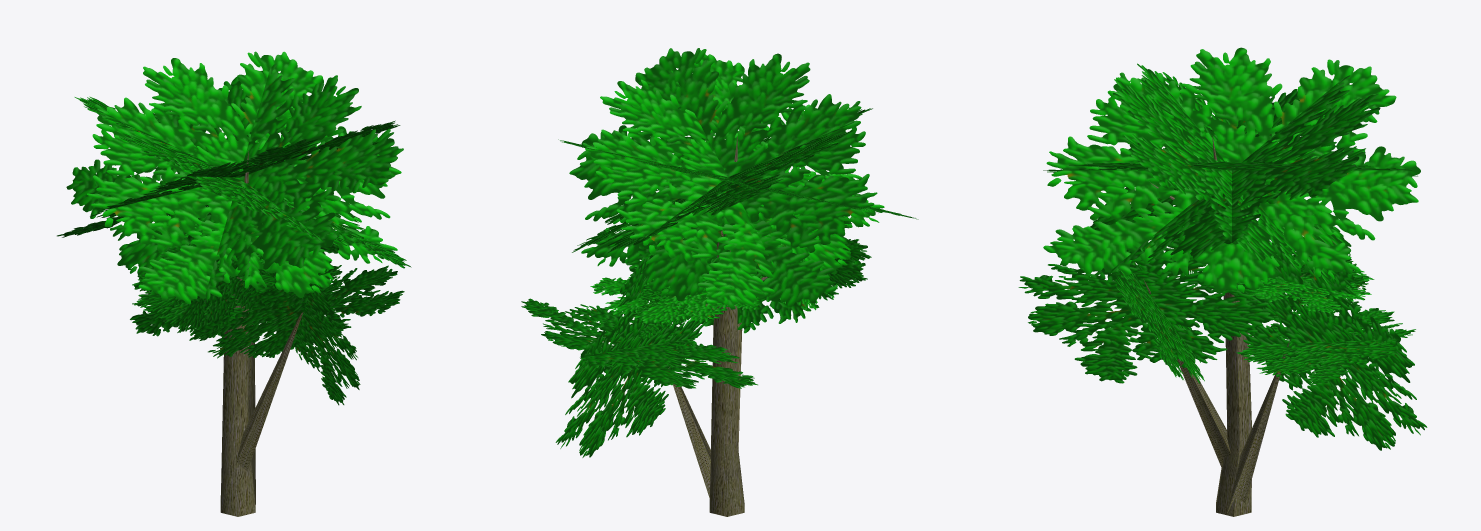
The model's file is tree06.obj.
3 views of the same model, side by side, from view 1: azimuth 30°, elevation 25°; view 2: azimuth 150°, elevation 25°; view 3: azimuth 270°, elevation 25° (orthographic). The views are drawn at different scales.
Visible parts, largest first — view 1: Duplicate06, Duplicate07, Duplicate12, Duplicate08, Cylinder04, Duplicate13, Box01, Duplicate02, Duplicate03; view 2: Box01, Duplicate07, Duplicate03, Cylinder04, Duplicate08, Duplicate11, Duplicate12, Duplicate02, Duplicate13, Duplicate06, Duplicate10; view 3: Duplicate08, Duplicate03, Duplicate12, Duplicate06, Box01, Cylinder04, Duplicate02, Duplicate11, Duplicate07.
Boxes of the visible parts, <box> form: Duplicate06: <box>87,51,401,304</box>; Duplicate07: <box>66,64,403,299</box>; Duplicate12: <box>189,247,404,405</box>; Duplicate08: <box>74,96,411,268</box>; Cylinder04: <box>220,151,255,516</box>; Duplicate13: <box>132,235,276,332</box>; Box01: <box>57,120,400,237</box>; Duplicate02: <box>236,312,303,504</box>; Duplicate03: <box>130,207,351,340</box>; Box01: <box>569,48,877,307</box>; Duplicate07: <box>582,50,884,309</box>; Duplicate03: <box>521,249,757,457</box>; Cylinder04: <box>709,136,744,516</box>; Duplicate08: <box>572,108,872,253</box>; Duplicate11: <box>590,263,761,323</box>; Duplicate12: <box>625,205,865,333</box>; Duplicate02: <box>668,322,742,498</box>; Duplicate13: <box>756,213,871,310</box>; Duplicate06: <box>558,139,918,219</box>; Duplicate10: <box>633,275,707,340</box>; Duplicate08: <box>1043,47,1420,293</box>; Duplicate03: <box>1150,182,1427,450</box>; Duplicate12: <box>1018,230,1278,383</box>; Duplicate06: <box>1090,75,1380,273</box>; Box01: <box>1112,63,1351,285</box>; Cylinder04: <box>1212,136,1251,516</box>; Duplicate02: <box>1143,279,1290,512</box>; Duplicate11: <box>1237,242,1374,313</box>; Duplicate07: <box>1043,161,1417,176</box>.
Bounding box in the file's own units: 78.55 × 91.65 × 96.45.
